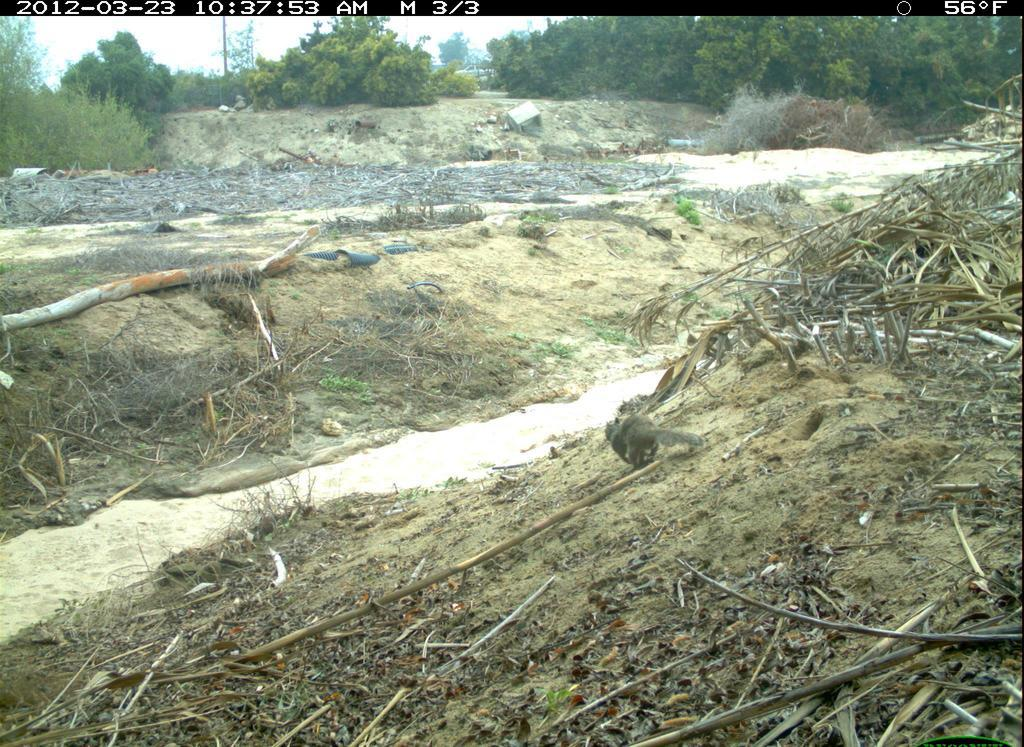squirrel: (597, 409, 713, 474)
